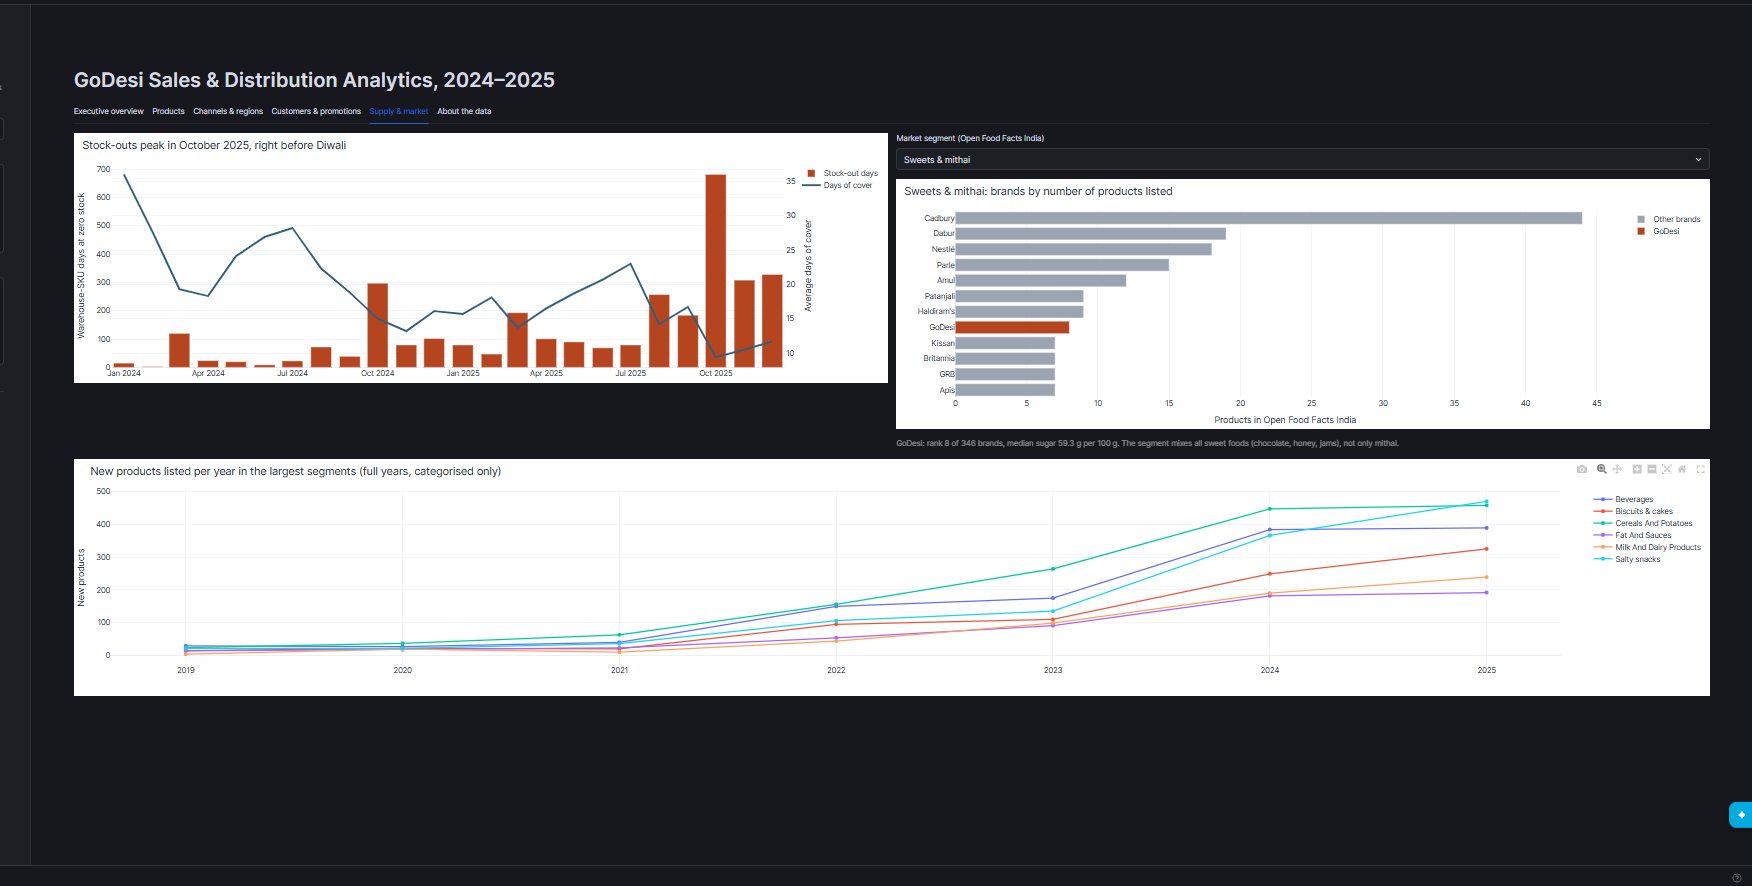

The page's visual inventory and layout, read from the dashboard file:
{"tool":"powerbi","page":{"name":" Supply & market","canvas":[1280,720],"ordinal":4},"visuals":[{"type":"slicer","fields":{"Values":["DIM_DATE.YEAR"]},"box":[699.8,9.6,190.7,70],"z":0},{"type":"slicer","fields":{"Values":["DIM_CHANNEL.CHANNEL"]},"box":[890.6,9.6,189.4,70],"z":1000},{"type":"slicer","fields":{"Values":["DIM_GEOGRAPHY.REGION"]},"box":[1079.9,9.6,182.5,70],"z":2000},{"type":"cardVisual","fields":{"Data":["FCT_INVENTORY_DAILY.Stock-out Days"]},"box":[20,80,314.2,109.8],"z":3000},{"type":"cardVisual","fields":{"Data":["MART_MARKET_LANDSCAPE.GoDesi Rank in Sweets"]},"box":[660,80,304.3,110],"z":4000},{"type":"cardVisual","title":" Returning customers'' share (online)","fields":{"Data":["FCT_INVENTORY_DAILY.Brands in Sweets"]},"box":[964.7,79.6,315.6,109.8],"z":5000},{"type":"cardVisual","fields":{"Data":["FCT_INVENTORY_DAILY.SKUs Out of Stock"]},"box":[334.8,79.6,325.2,109.8],"z":6000},{"type":"textbox","box":[20,10,600,50],"z":7000},{"type":"lineClusteredColumnComboChart","title":" Stock-outs peak in festival months (bars), days of cover falls (line)","fields":{"Category":["DIM_DATE.YEAR_MONTH"],"Y":["FCT_INVENTORY_DAILY.Stock-out Days"],"Y2":["FCT_INVENTORY_DAILY.Avg Days of Cover"]},"box":[20,205,720,495],"z":7001},{"type":"barChart","title":" Top brands in Sweets & mithai (GoDesi in rust)","fields":{"Category":["MART_MARKET_LANDSCAPE.BRAND"],"Y":["Sum(MART_MARKET_LANDSCAPE.PRODUCTS)"],"Series":["MART_MARKET_LANDSCAPE.IS_GODESI"]},"box":[755,205.7,505,495],"z":7002}]}

Visuals, with their boxes on the page's 1280x720 design canvas (x1, y1, x2, y2). These are canvas units, not pixel positions in the 1752x886 screenshot, which may show the page scaled, cropped or inside an application window:
slicer - DIM_DATE.YEAR: left=700, top=10, right=890, bottom=80
slicer - DIM_CHANNEL.CHANNEL: left=891, top=10, right=1080, bottom=80
slicer - DIM_GEOGRAPHY.REGION: left=1080, top=10, right=1262, bottom=80
cardVisual - FCT_INVENTORY_DAILY.Stock-out Days: left=20, top=80, right=334, bottom=190
cardVisual - MART_MARKET_LANDSCAPE.GoDesi Rank in Sweets: left=660, top=80, right=964, bottom=190
" Returning customers'' share (online)" cardVisual: left=965, top=80, right=1280, bottom=189
cardVisual - FCT_INVENTORY_DAILY.SKUs Out of Stock: left=335, top=80, right=660, bottom=189
textbox: left=20, top=10, right=620, bottom=60
" Stock-outs peak in festival months (bars), days of cover falls (line)" lineClusteredColumnComboChart: left=20, top=205, right=740, bottom=700
" Top brands in Sweets & mithai (GoDesi in rust)" barChart: left=755, top=206, right=1260, bottom=701
